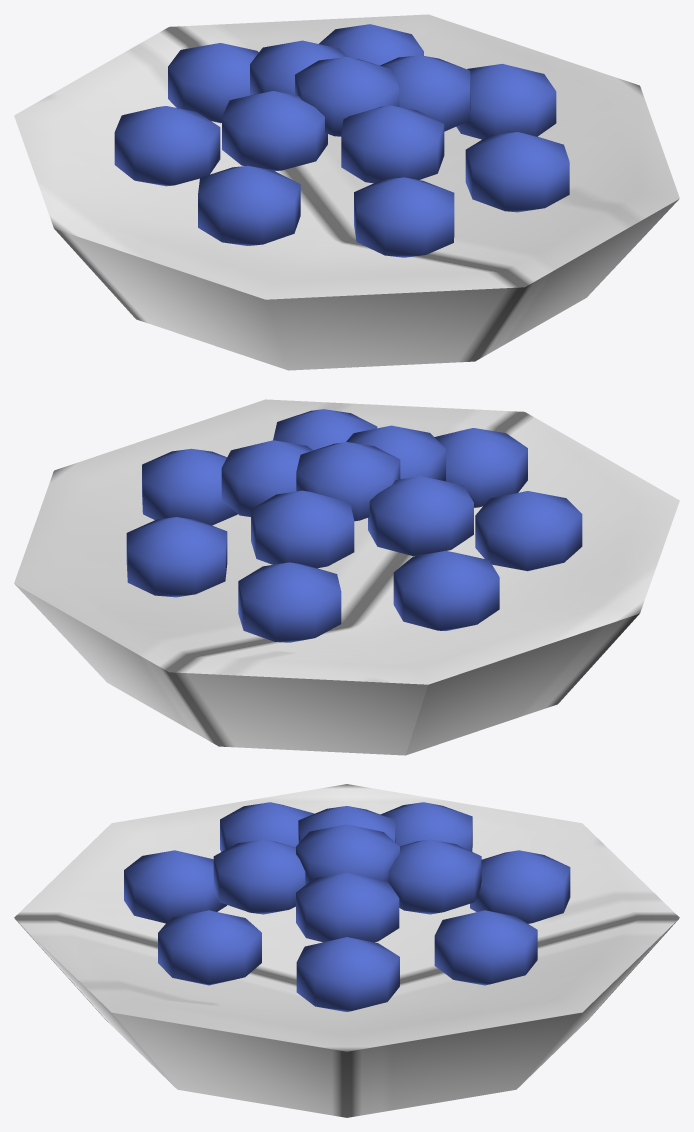
The model's file is food_berries_c.obj.
3 views of the same model, one above another, from view 1: azimuth 30°, elevation 25°; view 2: azimuth 150°, elevation 25°; view 3: azimuth 270°, elevation 25° (orthographic). The views are drawn at different scales.
Visible parts, largest first — view 1: shallow_wooden_basket, berry_10, berry_7, berry_9, berry_8, berry_4, berry_3, berry_6, berry_1, berry_11, berry_2, berry_5 (+1 smaller); view 2: shallow_wooden_basket, berry_9, berry_10, berry_11, berry_12, berry_4, berry_5, berry_6, berry_1, berry_8, berry_2, berry_3 (+1 smaller); view 3: shallow_wooden_basket, berry_7, berry_12, berry_6, berry_2, berry_5, berry_3, berry_11, berry_8, berry_1, berry_9, berry_10 (+1 smaller).
Part boxes in pixels (x1,y1,x2,y2): shallow_wooden_basket: [14, 14, 679, 370]; berry_10: [114, 106, 220, 186]; berry_7: [465, 132, 569, 212]; berry_9: [198, 165, 300, 245]; berry_8: [354, 177, 454, 257]; berry_4: [222, 91, 327, 171]; berry_3: [341, 105, 444, 183]; berry_6: [456, 63, 556, 139]; berry_1: [295, 57, 399, 136]; berry_11: [168, 43, 258, 123]; berry_2: [380, 55, 470, 131]; berry_5: [250, 40, 348, 95]; shallow_wooden_basket: [14, 399, 679, 755]; berry_9: [475, 491, 582, 571]; berry_10: [393, 551, 499, 630]; berry_11: [238, 562, 341, 642]; berry_12: [126, 517, 227, 597]; berry_4: [368, 476, 473, 555]; berry_5: [251, 490, 354, 568]; berry_6: [142, 448, 237, 525]; berry_1: [296, 442, 400, 521]; berry_8: [434, 428, 527, 507]; berry_2: [221, 440, 313, 516]; berry_3: [346, 425, 445, 481]; shallow_wooden_basket: [14, 784, 679, 1117]; berry_7: [158, 910, 261, 985]; berry_12: [434, 910, 537, 985]; berry_6: [296, 937, 399, 1011]; berry_2: [296, 873, 399, 942]; berry_5: [388, 839, 481, 914]; berry_3: [213, 839, 305, 914]; berry_11: [470, 850, 570, 923]; berry_8: [124, 850, 227, 923]; berry_1: [296, 824, 399, 884]; berry_9: [220, 802, 314, 851]; berry_10: [380, 802, 472, 851].
Size of the model in its own units: 0.4946 by 0.17 by 0.52.
